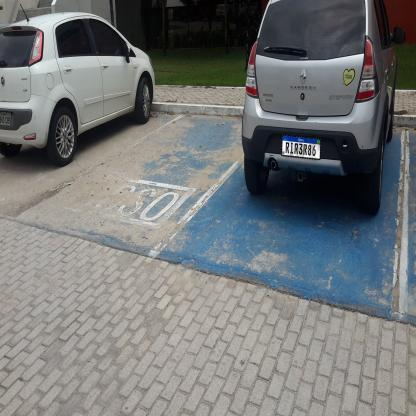PlacaM: (281, 134, 321, 160)
